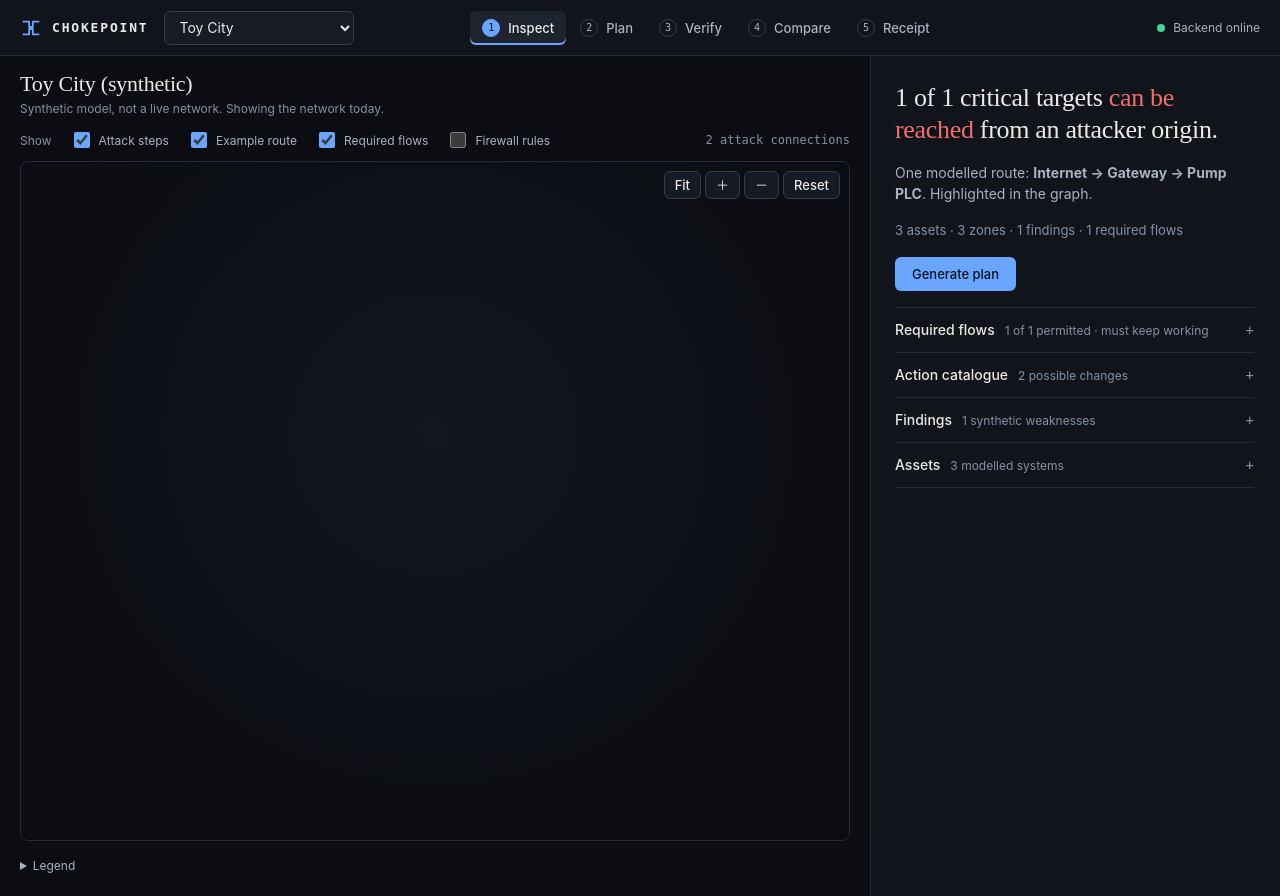
Scenario: product workflow against the API contract › shows an honest warning, not "optimal", for an unproven plan
Click the button "2 Plan": x=607, y=28 [568,10,645,44]
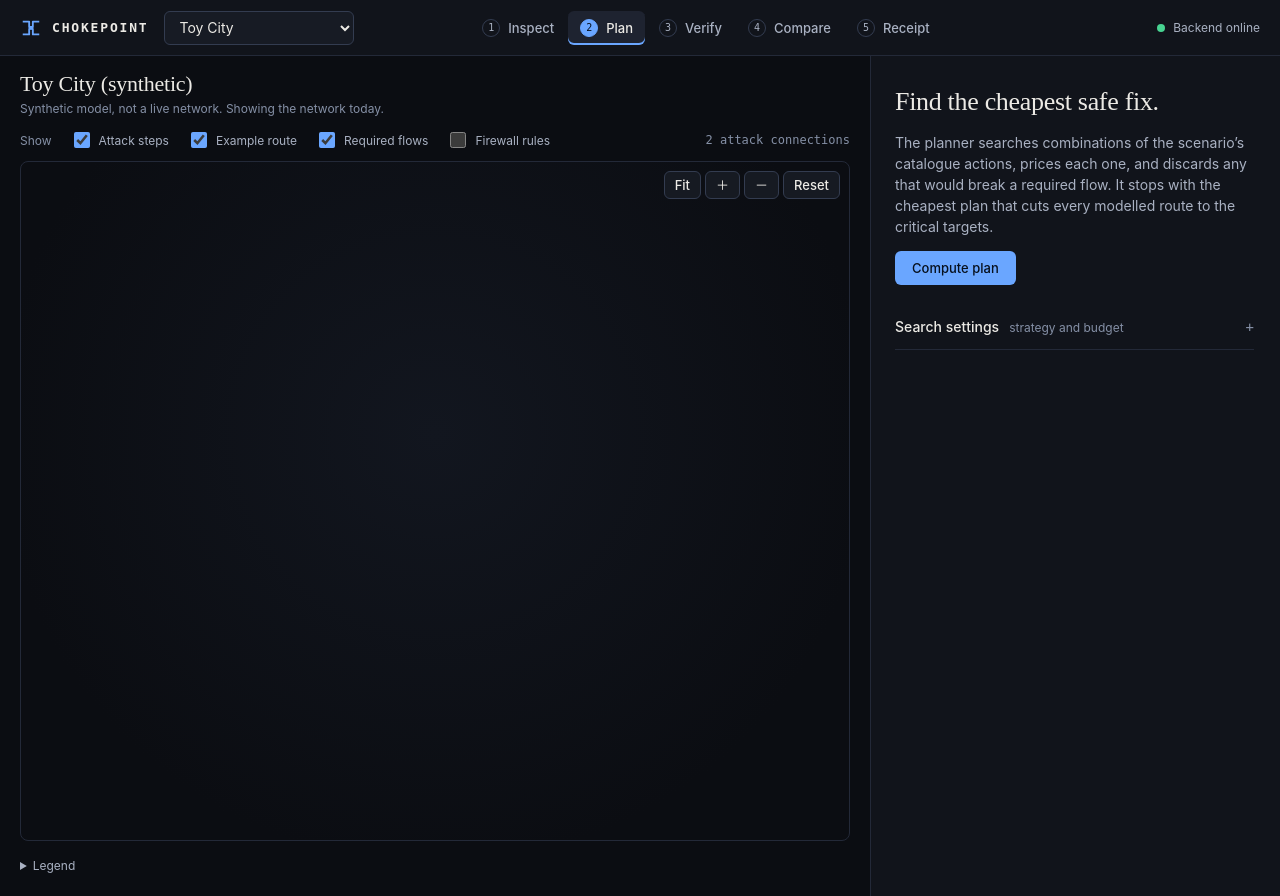
Click the button with test id "compute-plan": x=955, y=268 [895,251,1016,285]
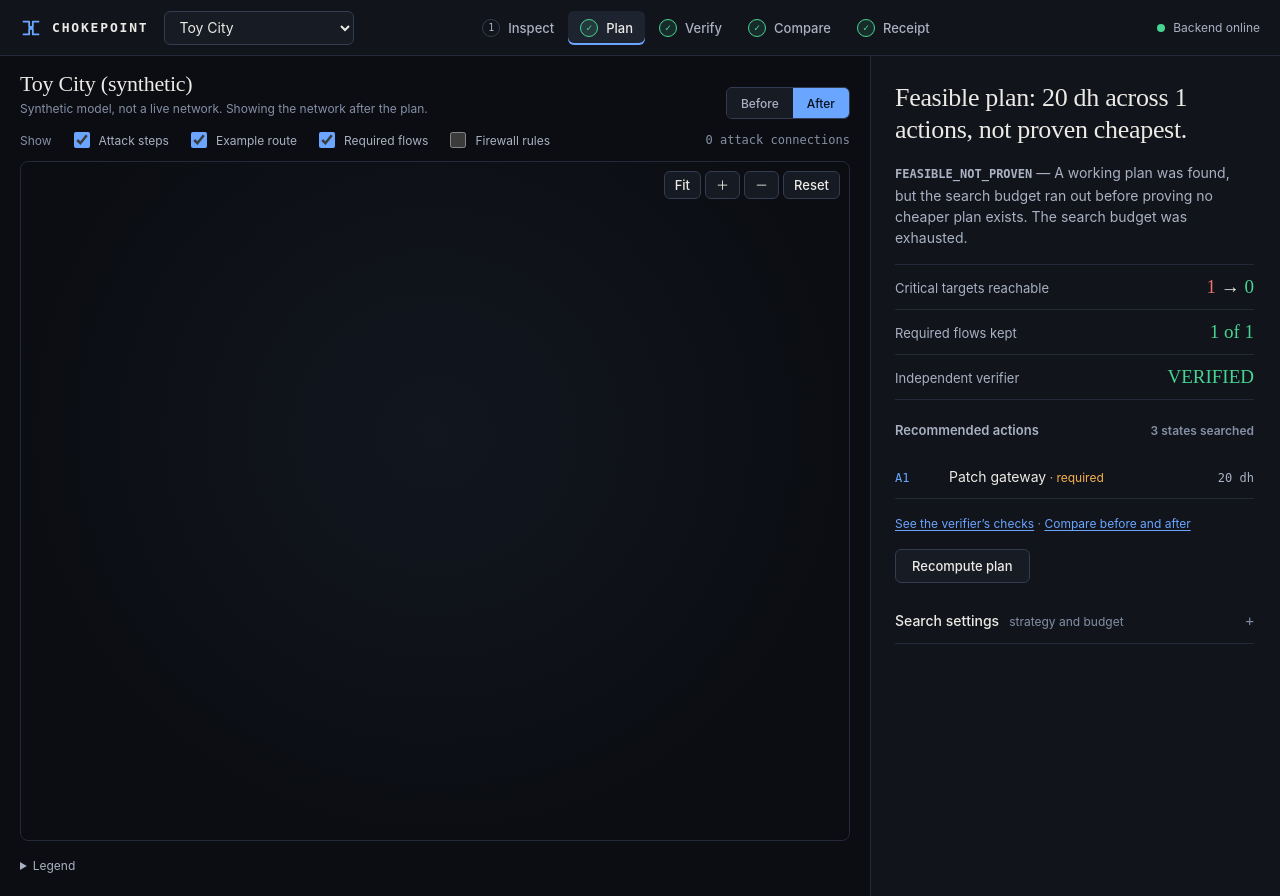
Now the text with test id "solver-status" reads "FEASIBLE_NOT_PROVEN", box [895,167,1032,181]
Now the element with test id "plan-result" shows "before proving", box [895,164,1230,225]
